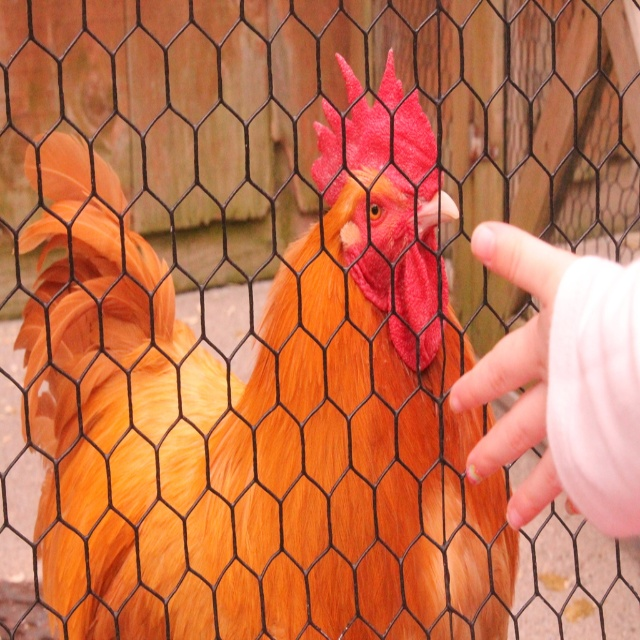Chicken: (38, 60, 518, 611)
